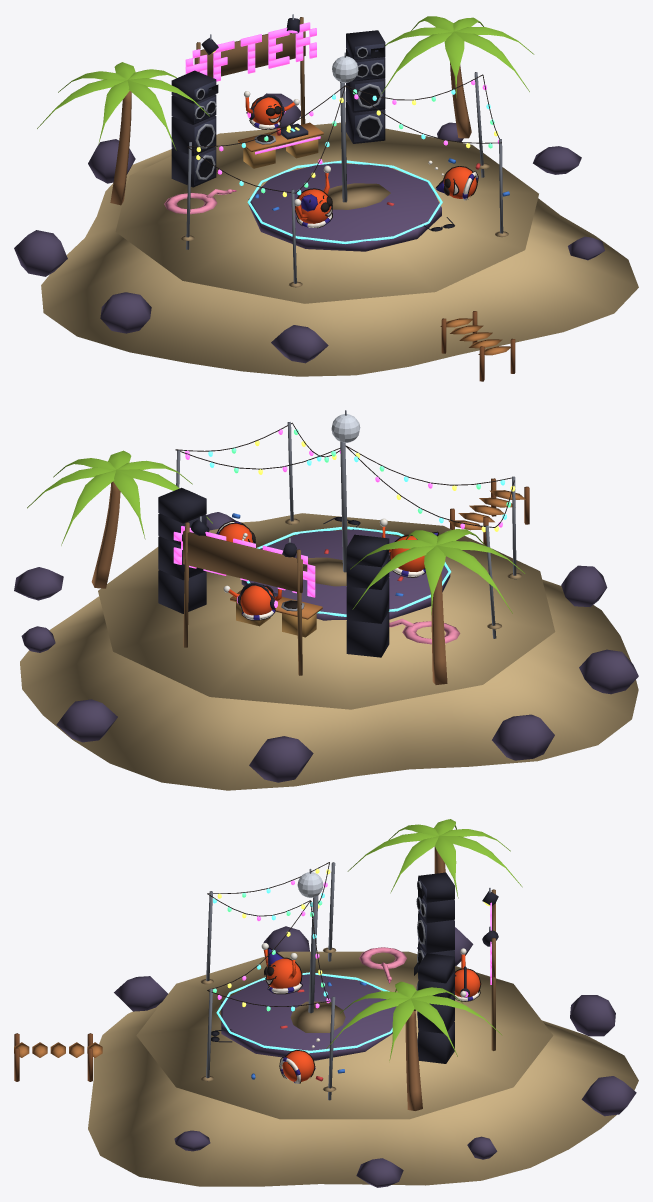
Rendered from after.glb.
The picture shows the model from 3 angles, top to bottom: view 1: azimuth 30°, elevation 25°; view 2: azimuth 150°, elevation 25°; view 3: azimuth 270°, elevation 25°; orthographic projection. The views are drawn at different scales.
Parts seen in each view (by area): view 1: after_isla; view 2: after_isla; view 3: after_isla.
Boxes of the visible parts, x1,y1,x2,y2 form: after_isla: [14, 14, 638, 381]; after_isla: [14, 410, 638, 790]; after_isla: [14, 819, 638, 1187].
Size of the model in its own units: 15.68 by 6.31 by 16.36.
